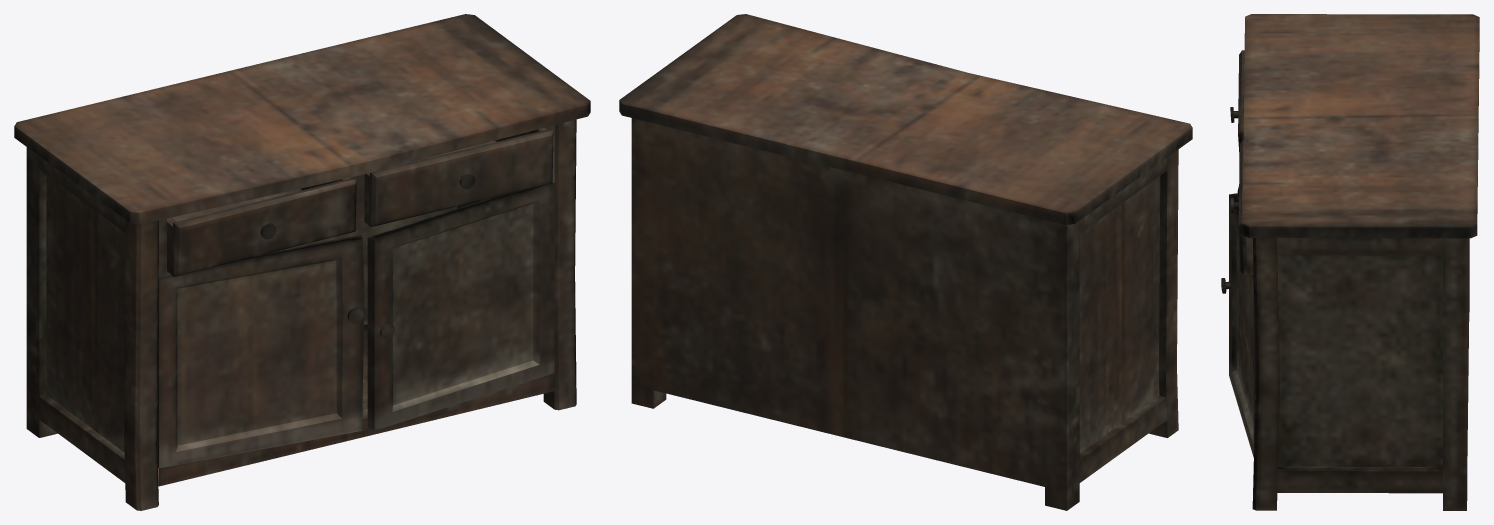
File: S_Cabinet_T01.FBX
3 views of the same model, side by side, from view 1: azimuth 30°, elevation 25°; view 2: azimuth 150°, elevation 25°; view 3: azimuth 270°, elevation 25° (orthographic). The views are drawn at different scales.
Visible parts, largest first — view 1: S_Cabinet_T01, Door_01, Door_02, Drawer_01, Drawer_02; view 2: S_Cabinet_T01; view 3: S_Cabinet_T01, Door_02, Drawer_02, Drawer_01.
Part boxes in pixels (x1,y1,x2,y2): S_Cabinet_T01: (14, 14, 590, 510); Door_01: (157, 234, 364, 468); Door_02: (367, 182, 554, 430); Drawer_01: (158, 177, 356, 276); Drawer_02: (364, 127, 553, 226); S_Cabinet_T01: (619, 14, 1192, 510); S_Cabinet_T01: (1242, 14, 1479, 510); Door_02: (1221, 193, 1255, 457); Drawer_02: (1230, 139, 1253, 274); Drawer_01: (1230, 50, 1244, 156).
Size of the model in its own units: 157 by 99 by 80.42.
